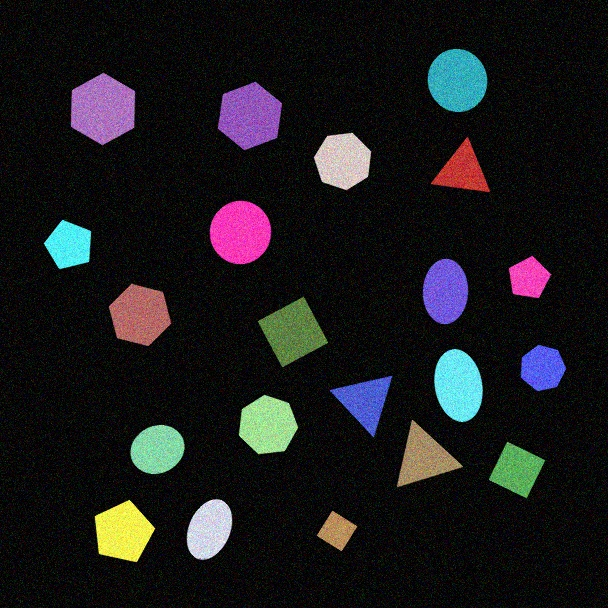Circulo: (209, 200, 272, 265), (427, 48, 488, 113), (130, 424, 185, 475)
Elipse: (433, 348, 484, 423), (422, 258, 469, 325), (186, 498, 233, 561)
Heptagono: (238, 394, 299, 455), (313, 132, 372, 191), (520, 344, 567, 392)
Hexagono: (70, 72, 136, 146), (217, 81, 283, 151), (108, 283, 172, 347)
Pentagono: (94, 499, 156, 563), (43, 219, 92, 270), (508, 255, 552, 299)
Quadrado: (257, 296, 329, 368), (488, 441, 546, 499), (316, 510, 358, 552)
Triangulo: (396, 419, 464, 488), (329, 375, 393, 438), (430, 137, 491, 193)
